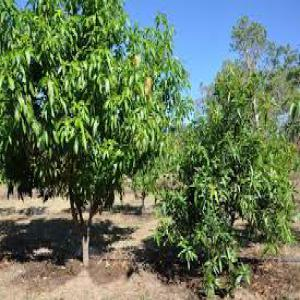Tree: (2, 0, 184, 261), (168, 13, 296, 294)
